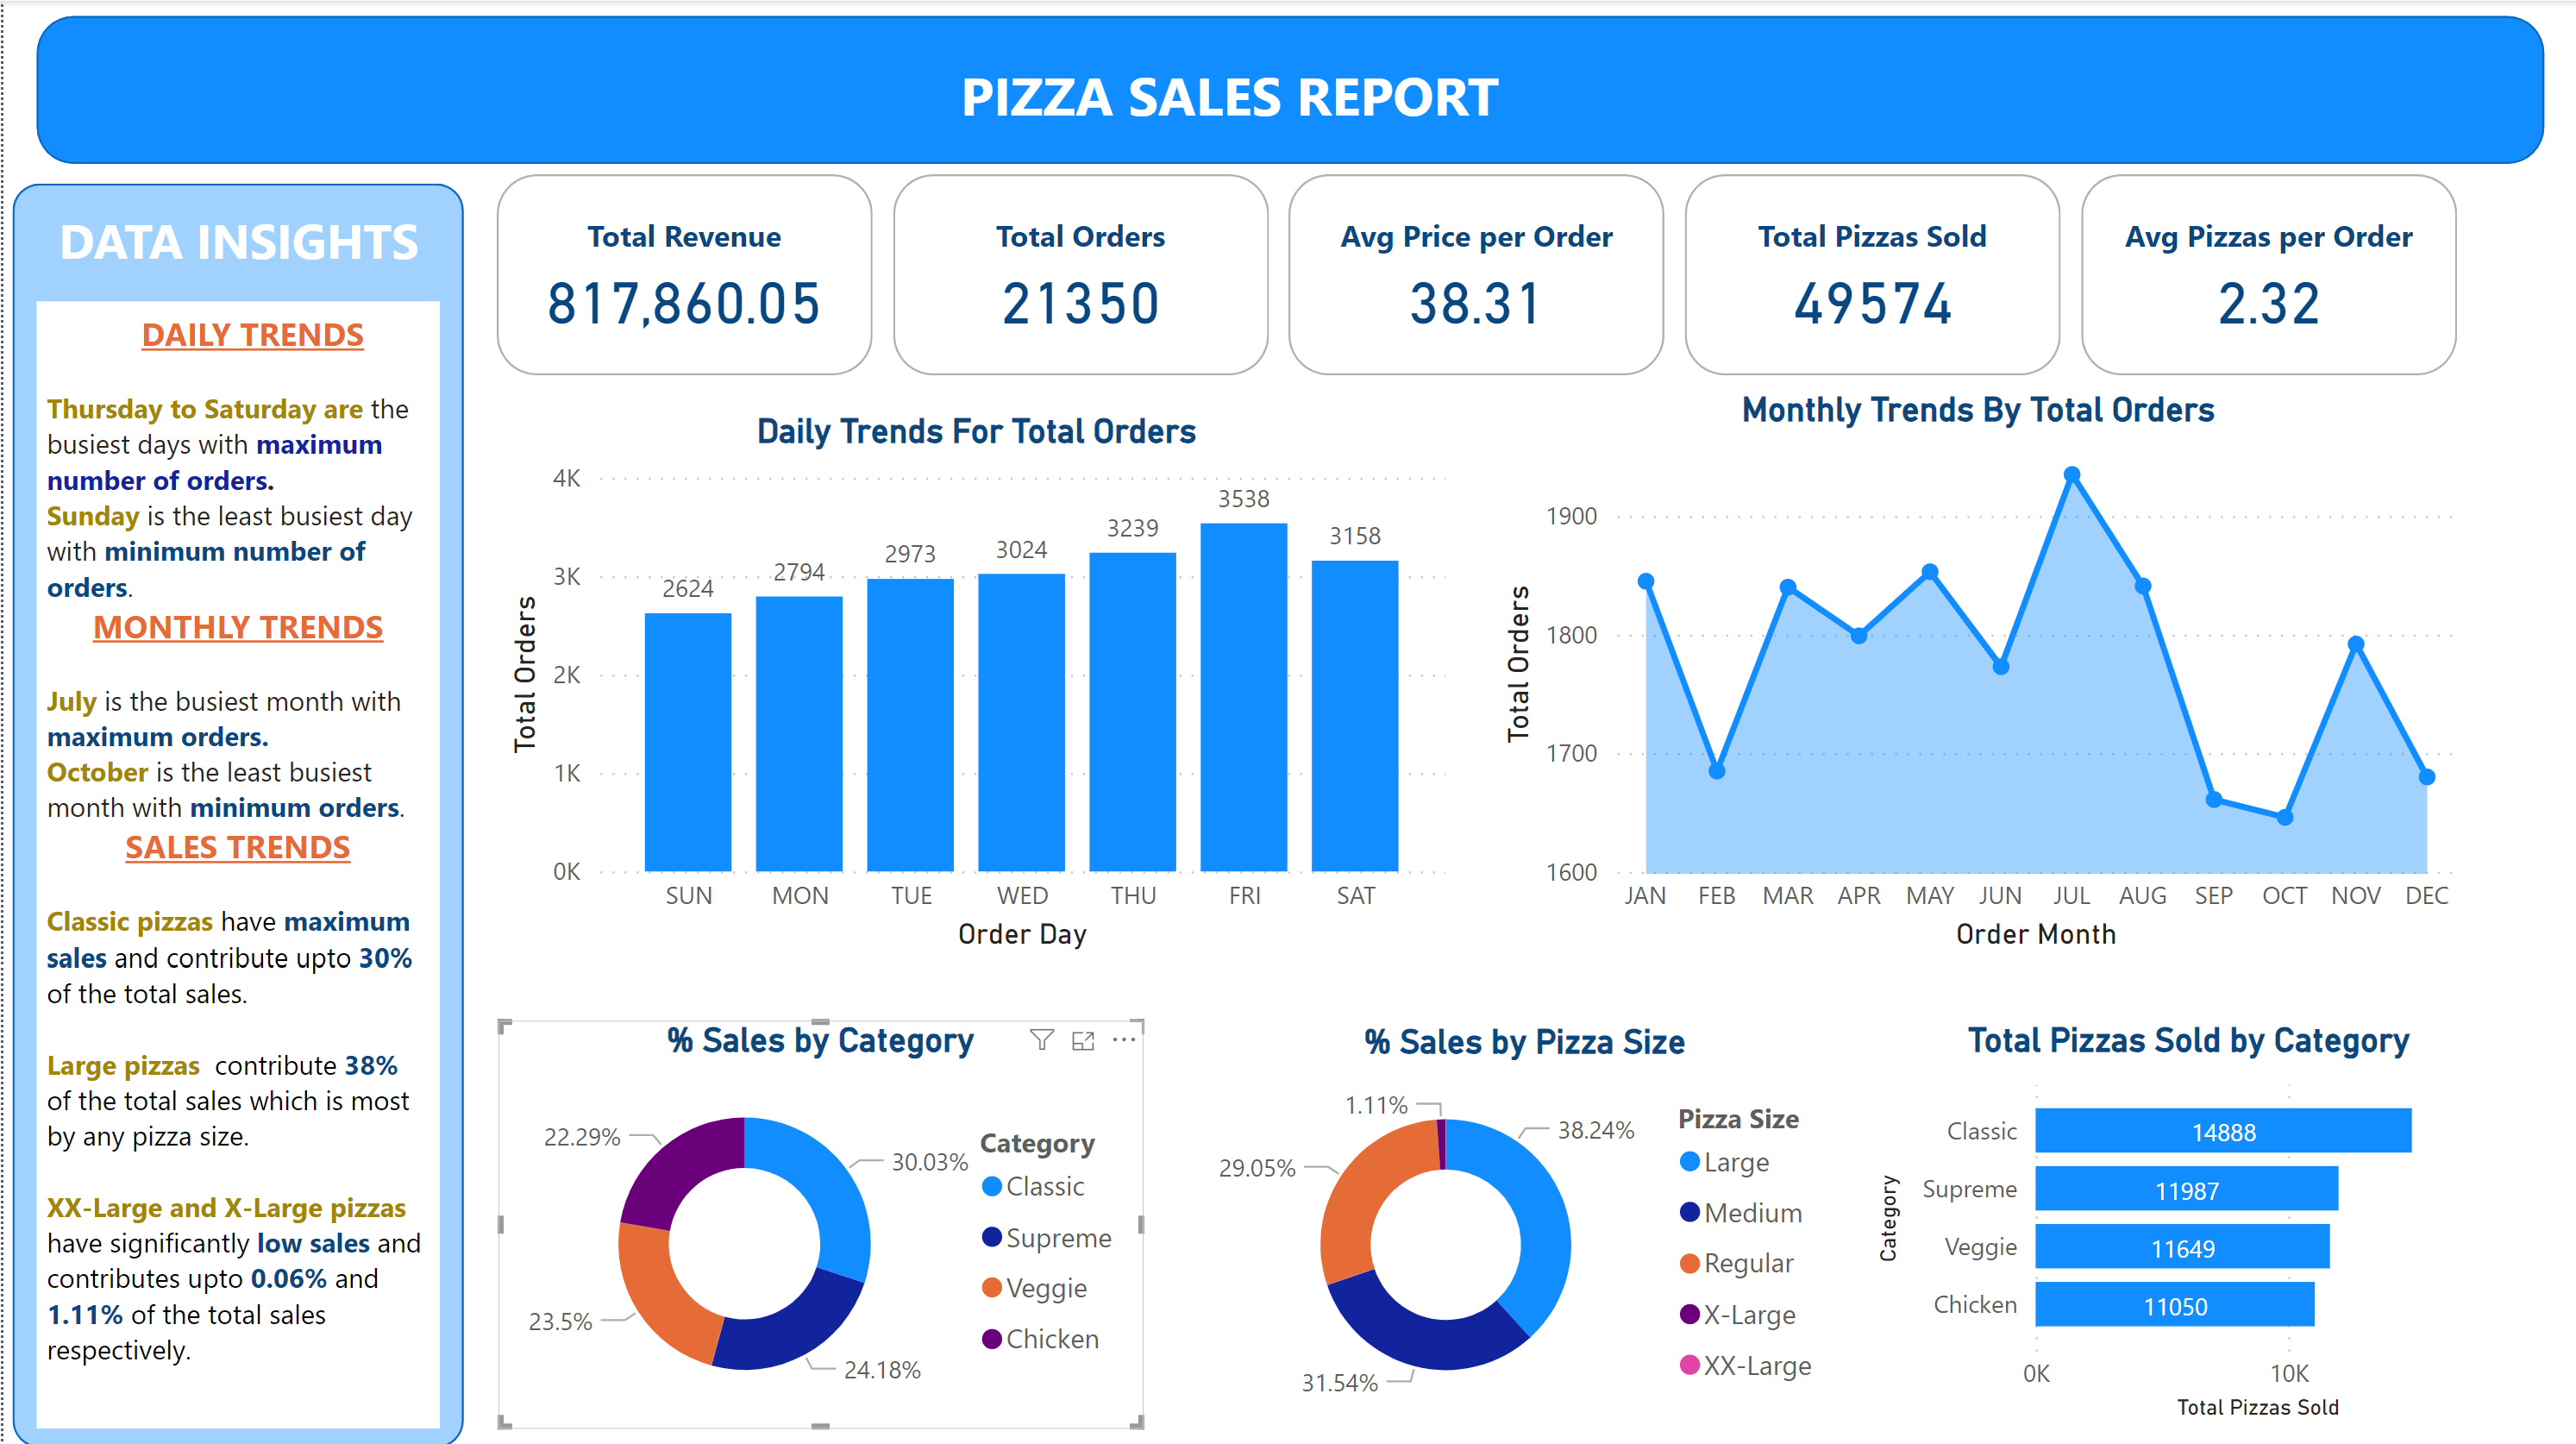

This screenshot's page, from the dashboard's own definition file:
{"tool":"powerbi","page":{"name":"Page 1","canvas":[1280,720],"ordinal":0},"visuals":[{"type":"cardVisual","fields":{"Data":["pizza_sales.Total Revenue","pizza_sales.Total Orders","pizza_sales.Avg Price per Order","pizza_sales.Total Pizzas Sold","pizza_sales.Avg Pizzas per Order"]},"box":[240,80.7,987.9,110.7],"z":0},{"type":"areaChart","title":"Monthly Trends By Total Orders","fields":{"Y":["pizza_sales.Total Orders"],"Category":["pizza_sales.Order Month"]},"box":[740,193.6,484.3,282.9],"z":1000},{"type":"donutChart","title":"% Sales by Category","fields":{"Category":["pizza_sales.pizza_category"],"Y":["Sum(pizza_sales.quantity)"]},"box":[246.2,506.6,320.5,202.7],"z":2000},{"type":"donutChart","title":"% Sales by Pizza Size","fields":{"Category":["pizza_sales.pizza_size"],"Y":["Sum(pizza_sales.quantity)"]},"box":[596.4,507.1,320,202.1],"z":3000},{"type":"clusteredBarChart","title":"Total Pizzas Sold by Category","fields":{"Category":["pizza_sales.pizza_category"],"Y":["pizza_sales.Total Pizzas Sold"]},"box":[927.1,506.4,320,202.9],"z":4000},{"type":"columnChart","title":"Daily Trends For Total Orders","fields":{"Category":["pizza_sales.Order Day"],"Y":["pizza_sales.Total Orders"]},"box":[246.4,204.3,475.7,272.1],"z":5000},{"type":"shape","box":[16.4,7.1,1247.1,73.6],"z":6000},{"type":"textbox","box":[427.9,23.6,364.3,47.9],"z":7000},{"type":"shape","box":[4.5,90.8,224.4,628.2],"z":8000},{"type":"textbox","box":[5.3,97.6,223.7,45],"z":9000},{"type":"textbox","box":[16.5,149.4,200.4,559.9],"z":10000}]}

Visuals, with their boxes in screenshot pixels (x1, y1, x2, y2), scaled from the page's 1280x720 canvas onto the 2576x1444 screenshot:
cardVisual - pizza_sales.Total Revenue x pizza_sales.Total Orders: box(483, 162, 2471, 384)
"Monthly Trends By Total Orders" areaChart: box(1489, 388, 2464, 956)
"% Sales by Category" donutChart: box(496, 1016, 1140, 1422)
"% Sales by Pizza Size" donutChart: box(1200, 1017, 1845, 1422)
"Total Pizzas Sold by Category" clusteredBarChart: box(1865, 1015, 2510, 1422)
"Daily Trends For Total Orders" columnChart: box(496, 410, 1453, 956)
shape: box(33, 15, 2542, 162)
textbox: box(862, 47, 1595, 143)
shape: box(9, 182, 461, 1442)
textbox: box(10, 196, 461, 286)
textbox: box(34, 299, 436, 1422)
